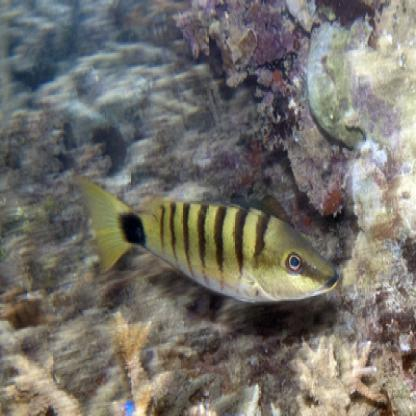Bio: (74, 164, 340, 312)
